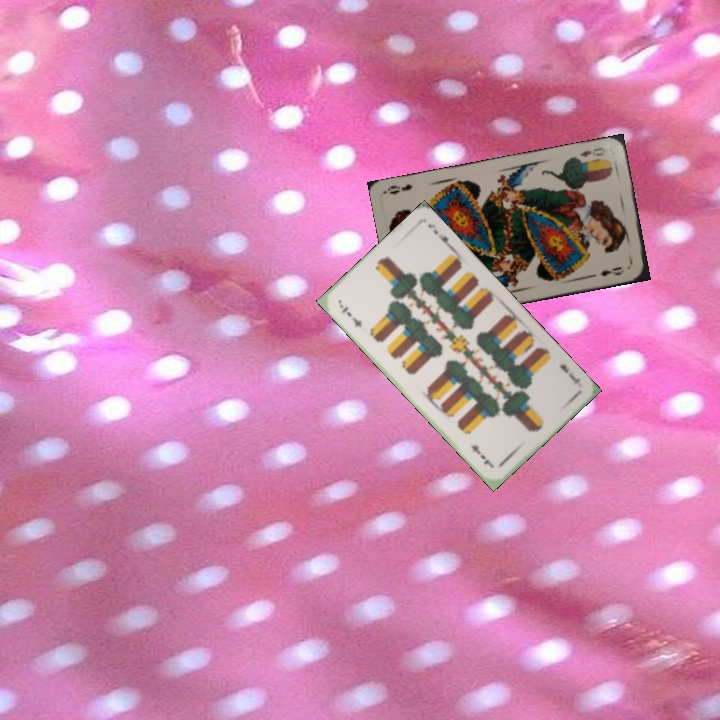E7: (335, 300, 365, 330), (555, 360, 583, 387)
EO: (576, 143, 608, 160)
